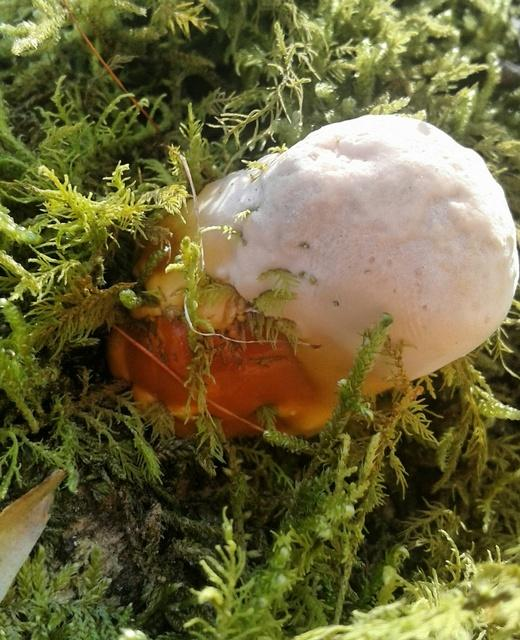Non-edible Mushroom: (107, 111, 518, 439)
